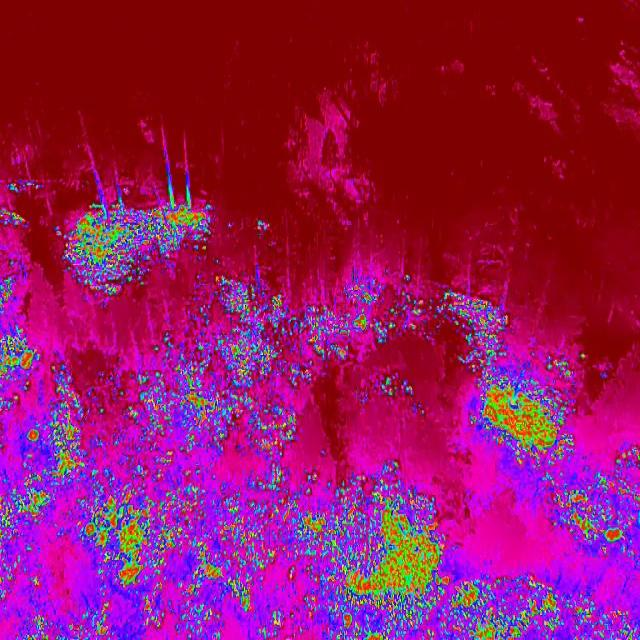fire: (0, 392, 297, 639), (139, 272, 371, 394), (296, 457, 448, 640), (61, 190, 219, 300), (463, 362, 585, 482), (449, 565, 640, 640), (543, 444, 640, 564), (0, 166, 46, 390), (444, 292, 515, 373), (369, 274, 446, 346), (378, 374, 424, 420)
